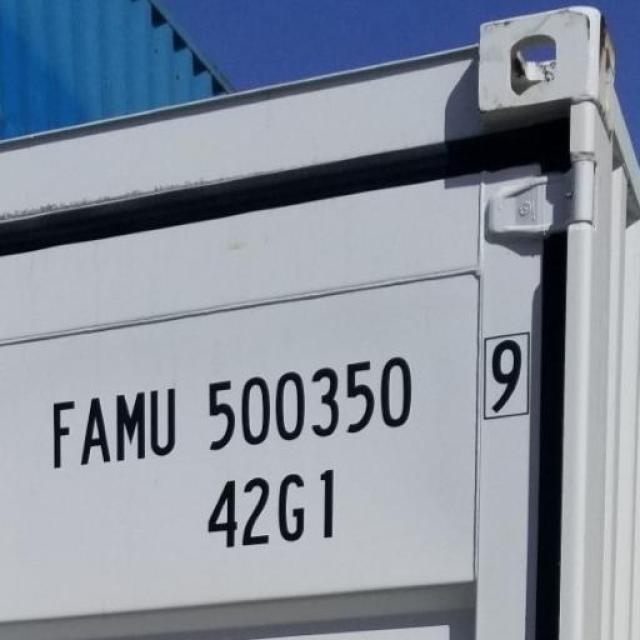ISO: (204, 468, 334, 550)
container_number: (54, 332, 531, 470)
